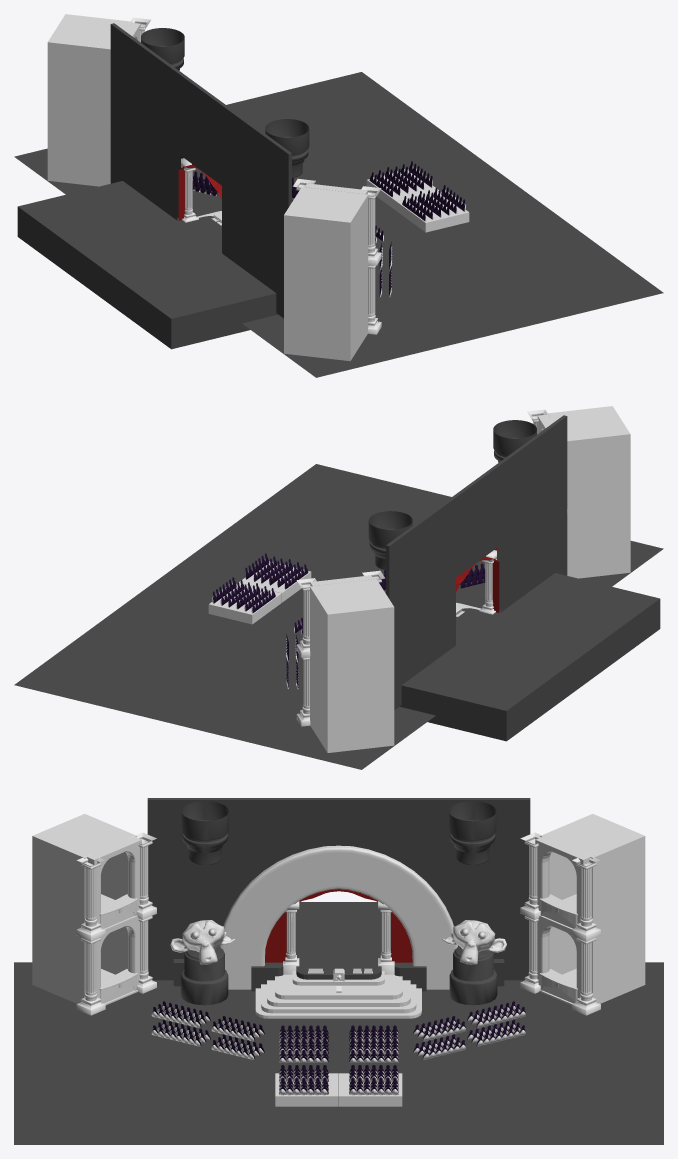
Rendered from BlockoutTheatreFull.fbx.
3 views of the same model, one above another, from view 1: azimuth 30°, elevation 25°; view 2: azimuth 150°, elevation 25°; view 3: azimuth 270°, elevation 25° (orthographic). The views are drawn at different scales.
Visible parts, largest first — view 1: Cube.025, Cube.018, Plane.001, Wall_01; view 2: Cube.025, Cube.018, Plane.001, Wall_01; view 3: Cube.025, Cube.018, Plane.001, Wall_01.
Part boxes in pixels (x1,y1,x2,y2): Cube.025: (14,23,663,377); Cube.018: (47,14,469,361); Plane.001: (192,161,465,296); Wall_01: (178,156,221,220); Cube.025: (14,415,663,769); Cube.018: (208,406,630,752); Plane.001: (212,553,485,687); Wall_01: (456,548,499,612); Cube.025: (14,798,663,1144); Cube.018: (32,814,645,1106); Plane.001: (152,1001,525,1094); Wall_01: (265,889,412,962).
Size of the model in its own units: 8544 by 3528 by 10690.
